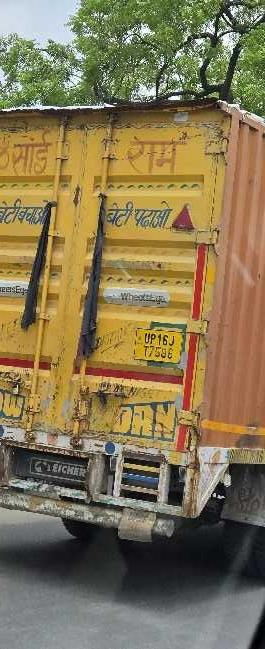License plate: (133, 328, 183, 364)
